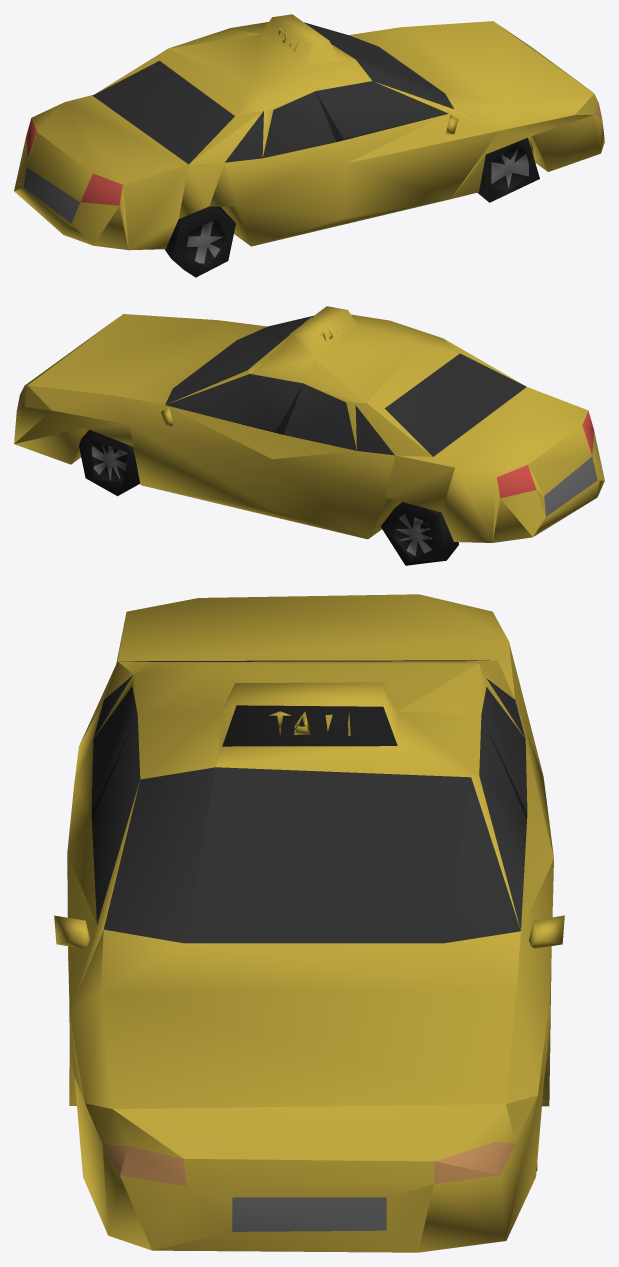
Rendered from taxi-lo.glb.
3 renders of one model, top to bottom at view 1: azimuth 30°, elevation 25°; view 2: azimuth 150°, elevation 25°; view 3: azimuth 270°, elevation 25°, orthographic. The views are drawn at different scales.
Parts seen in each view (by area): view 1: Taxi; view 2: Taxi; view 3: Taxi.
Boxes of the visible parts, x1,y1,x2,y2 form: Taxi: (14,14,604,277); Taxi: (14,306,604,565); Taxi: (54,594,564,1252).
Bounding box in the file's own units: 4.19 × 1.31 × 1.76.
